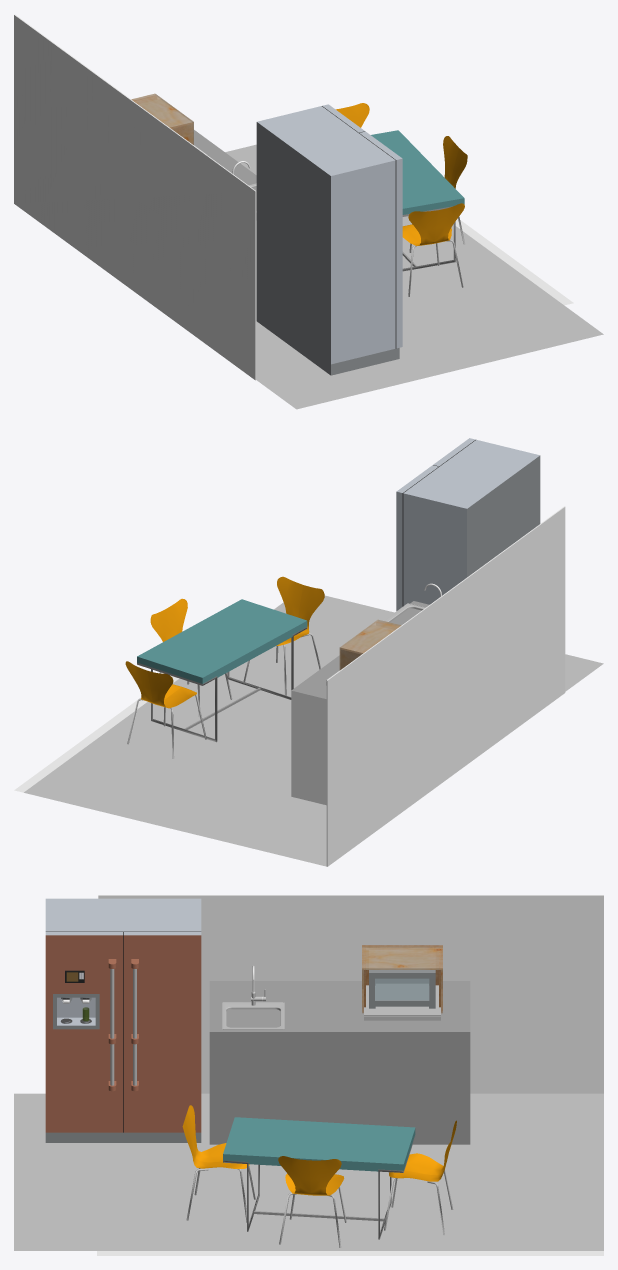
The picture shows the model from 3 angles, top to bottom: view 1: azimuth 30°, elevation 25°; view 2: azimuth 150°, elevation 25°; view 3: azimuth 270°, elevation 25°; orthographic projection. The views are drawn at different scales.
Visible parts, largest first — view 1: Model, R_frig_rateur1, Group3, Composant_6_1, Component_32_4, Component_32_3; view 2: Model, R_frig_rateur1, Group3, Component_32_5, Composant_6_1, Component_32_4, Component_32_3, Component_32_6, Group2, Component_32_2; view 3: Model, R_frig_rateur1, Group3, Composant_3_1, Composant_6_1, Component_32_1, Composant_1_1, Component_32_2, Component_32_4, Component_32_5, IKEA___BOHOLMEN_Evier_48x50___BAGVIK_Mitigeur1, Component_32_3 (+1 smaller).
Part boxes in pixels (x1=…): Model: x1=14, y1=14, x2=603, y2=409; R_frig_rateur1: x1=256, y1=104, x2=402, y2=375; Group3: x1=371, y1=130, x2=464, y2=214; Composant_6_1: x1=131, y1=93, x2=193, y2=144; Component_32_4: x1=402, y1=210, x2=438, y2=296; Component_32_3: x1=433, y1=203, x2=464, y2=287; Model: x1=14, y1=506, x2=603, y2=866; R_frig_rateur1: x1=396, y1=438, x2=540, y2=610; Group3: x1=137, y1=599, x2=307, y2=683; Component_32_5: x1=147, y1=670, x2=206, y2=758; Composant_6_1: x1=339, y1=619, x2=401, y2=670; Component_32_4: x1=276, y1=585, x2=324, y2=695; Component_32_3: x1=243, y1=576, x2=303, y2=681; Component_32_6: x1=125, y1=661, x2=181, y2=744; Group2: x1=137, y1=662, x2=217, y2=742; Component_32_2: x1=166, y1=598, x2=232, y2=699; Model: x1=14, y1=895, x2=603, y2=1255; R_frig_rateur1: x1=45, y1=898, x2=201, y2=1142; Group3: x1=223, y1=1117, x2=415, y2=1171; Composant_3_1: x1=369, y1=970, x2=435, y2=1008; Composant_6_1: x1=362, y1=946, x2=442, y2=1013; Component_32_1: x1=309, y1=1159, x2=346, y2=1247; Composant_1_1: x1=364, y1=985, x2=440, y2=1020; Component_32_2: x1=278, y1=1156, x2=310, y2=1244; Component_32_4: x1=185, y1=1105, x2=255, y2=1199; Component_32_5: x1=391, y1=1120, x2=456, y2=1209; IKEA___BOHOLMEN_Evier_48x50___BAGVIK_Mitigeur1: x1=222, y1=1002, x2=284, y2=1029; Component_32_3: x1=182, y1=1119, x2=249, y2=1222.
Size of the model in its own units: 2.97 by 1.88 by 4.55.
